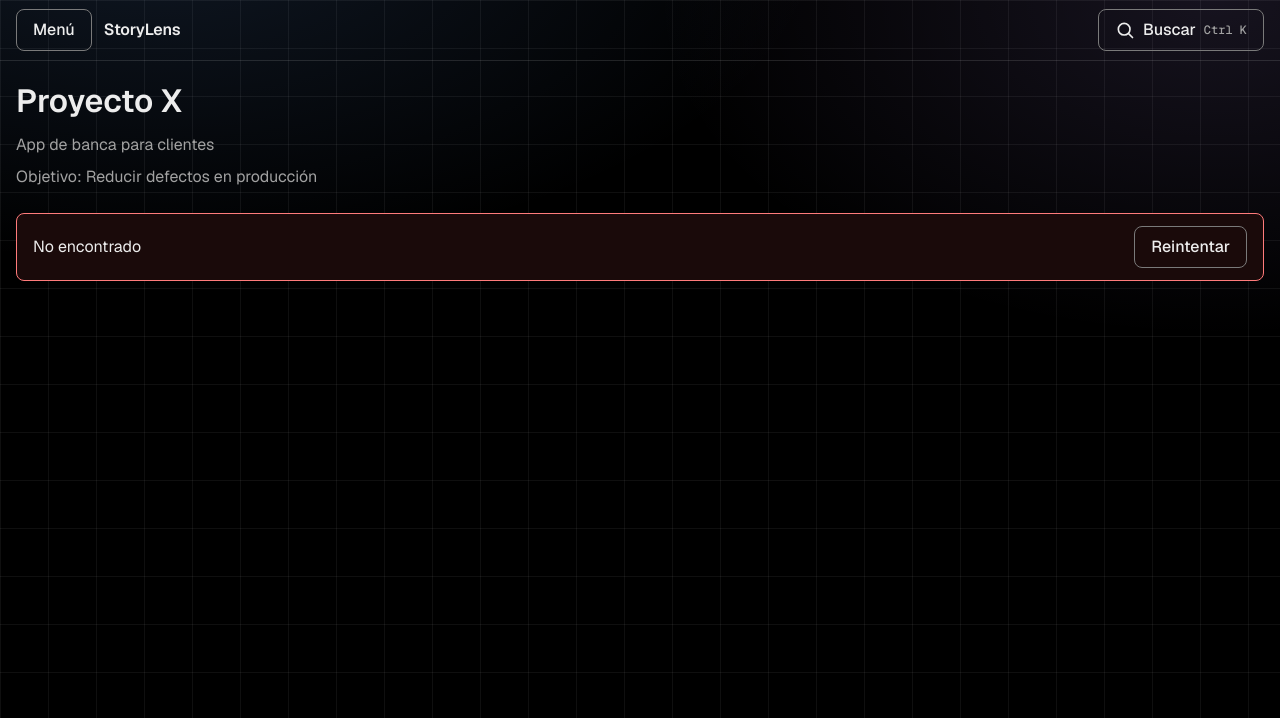
Test: Shell › Esc cierra el menú móvil y devuelve el foco a Menú
Click the button "Menú" at [54, 30], box [16, 9, 92, 51]
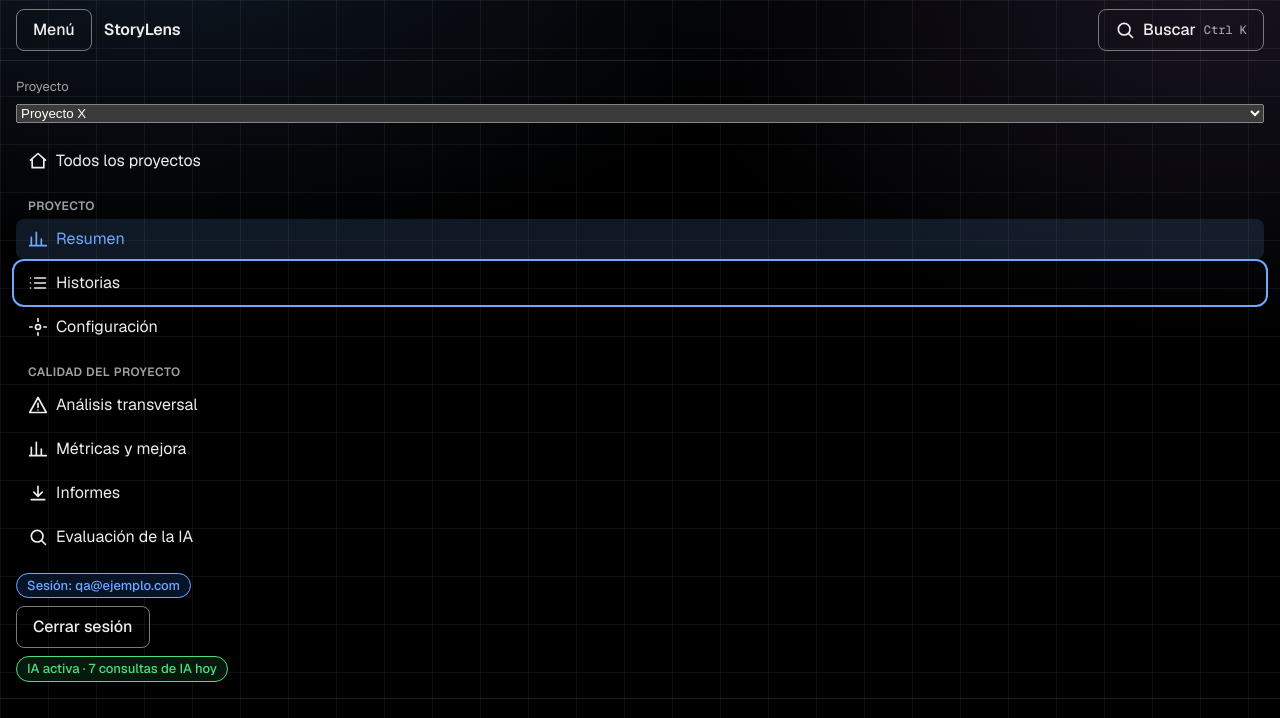
Press Escape
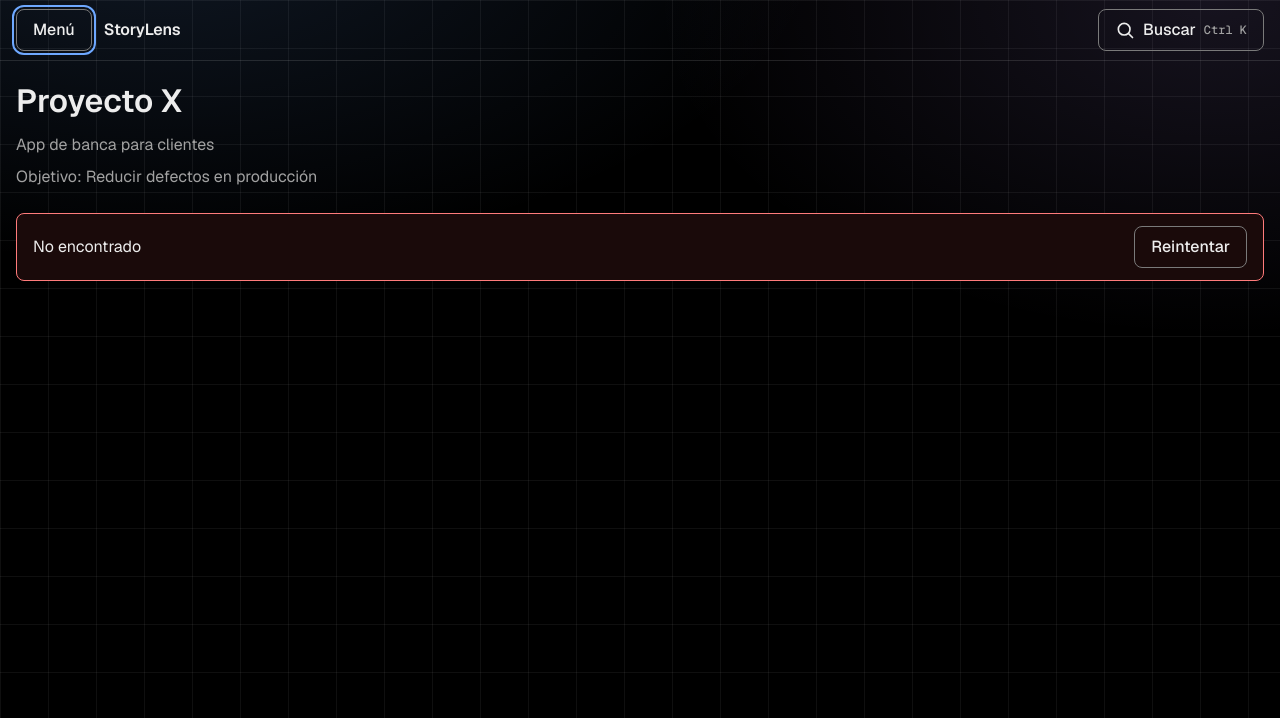
Expected: the navigation bar "Módulos" is gone
